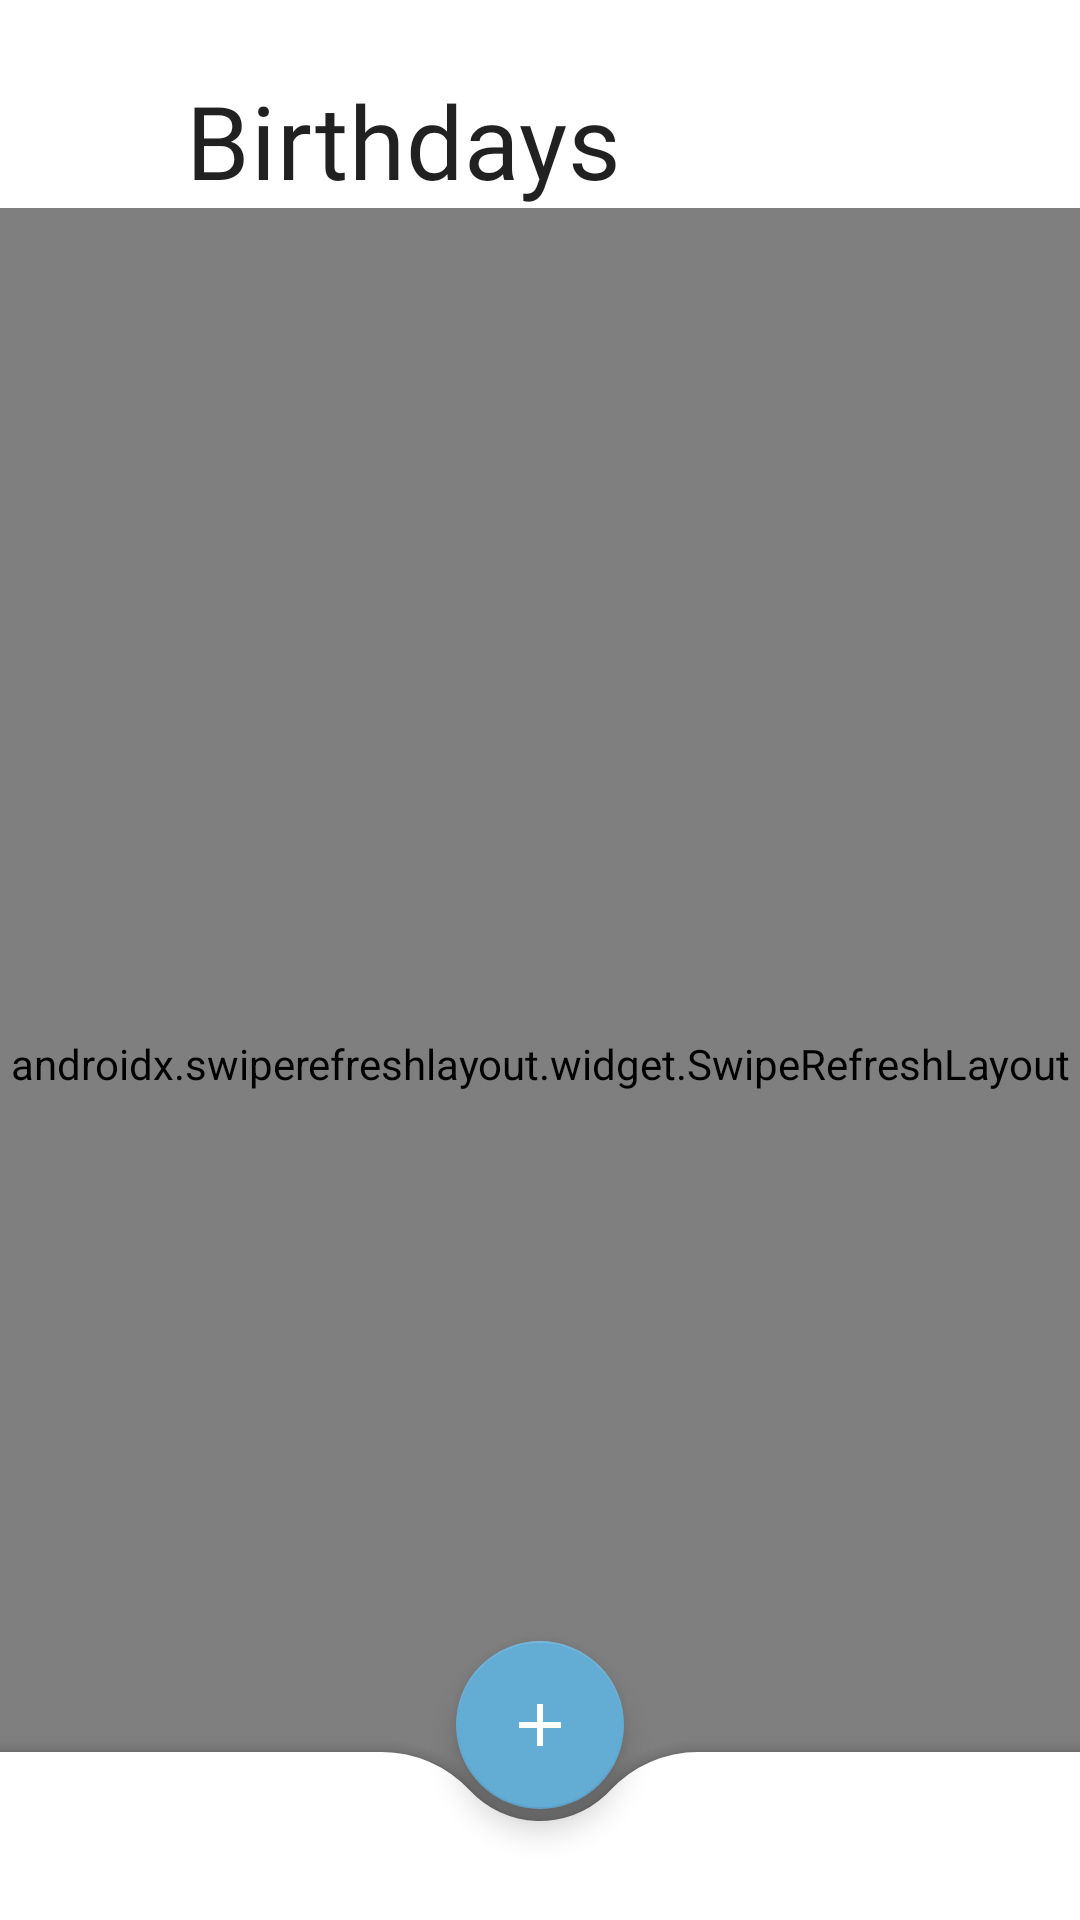

Named icons in this screenshot (1080*1920) and their centers, [x,y]:
add: [540,1752]
